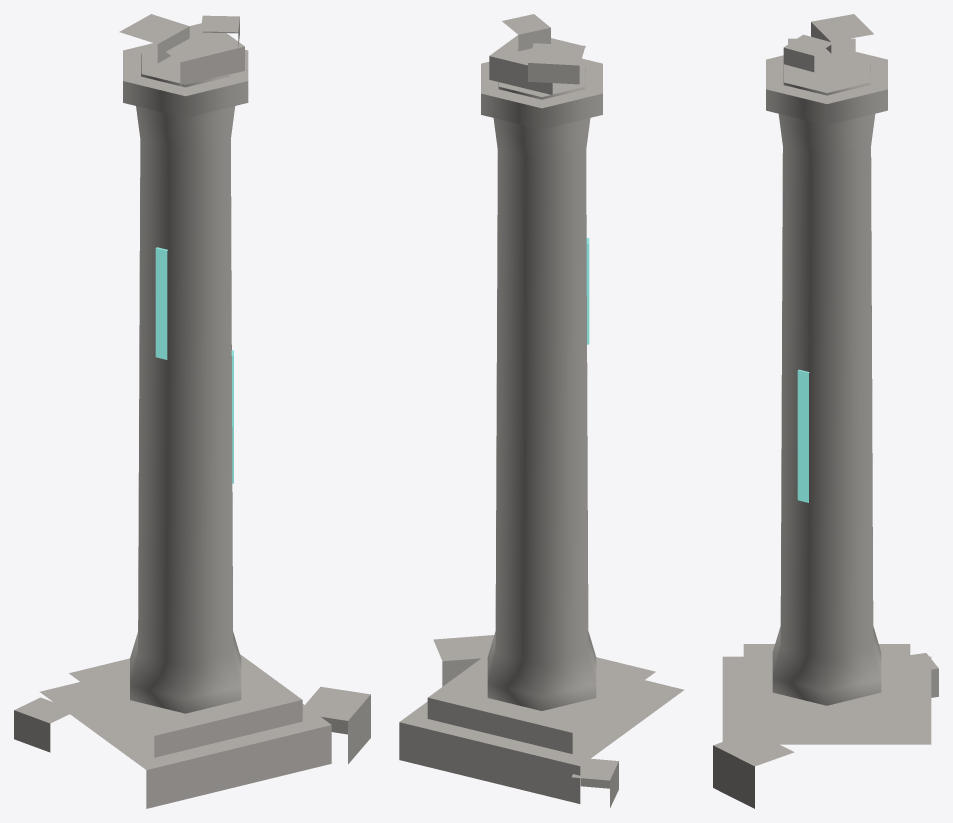
File: SM_Ruin_Pillar.glb
3 renders of one model, left to right at view 1: azimuth 30°, elevation 25°; view 2: azimuth 150°, elevation 25°; view 3: azimuth 270°, elevation 25°, orthographic. The views are drawn at different scales.
Visible parts, largest first — view 1: SM_Ruin_Pillar; view 2: SM_Ruin_Pillar; view 3: SM_Ruin_Pillar.
Boxes of the visible parts, x1,y1,x2,y2 form: SM_Ruin_Pillar: [14, 14, 370, 808]; SM_Ruin_Pillar: [399, 14, 684, 807]; SM_Ruin_Pillar: [713, 14, 938, 808].
Bounding box in the file's own units: 1.16 × 2.99 × 0.8664.
